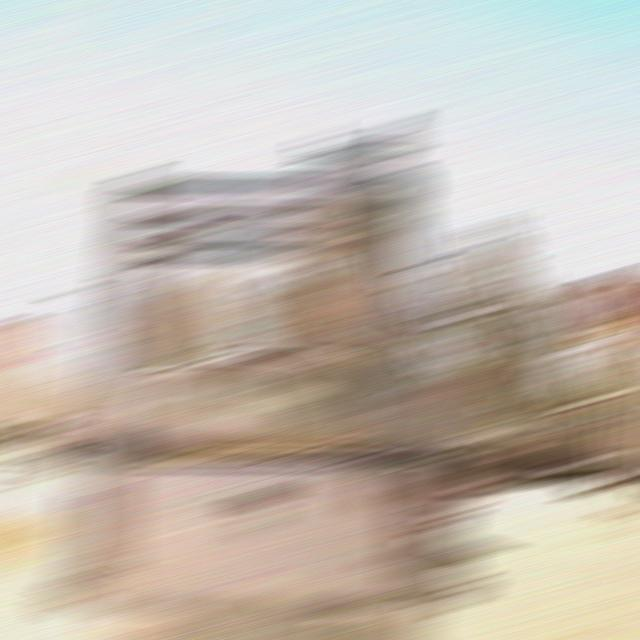stop_sign: (576, 273, 634, 320)
